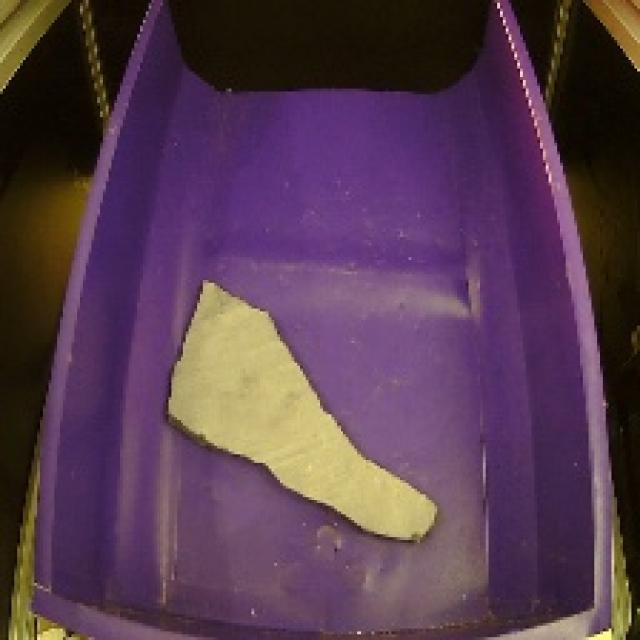china: (157, 273, 447, 556)
